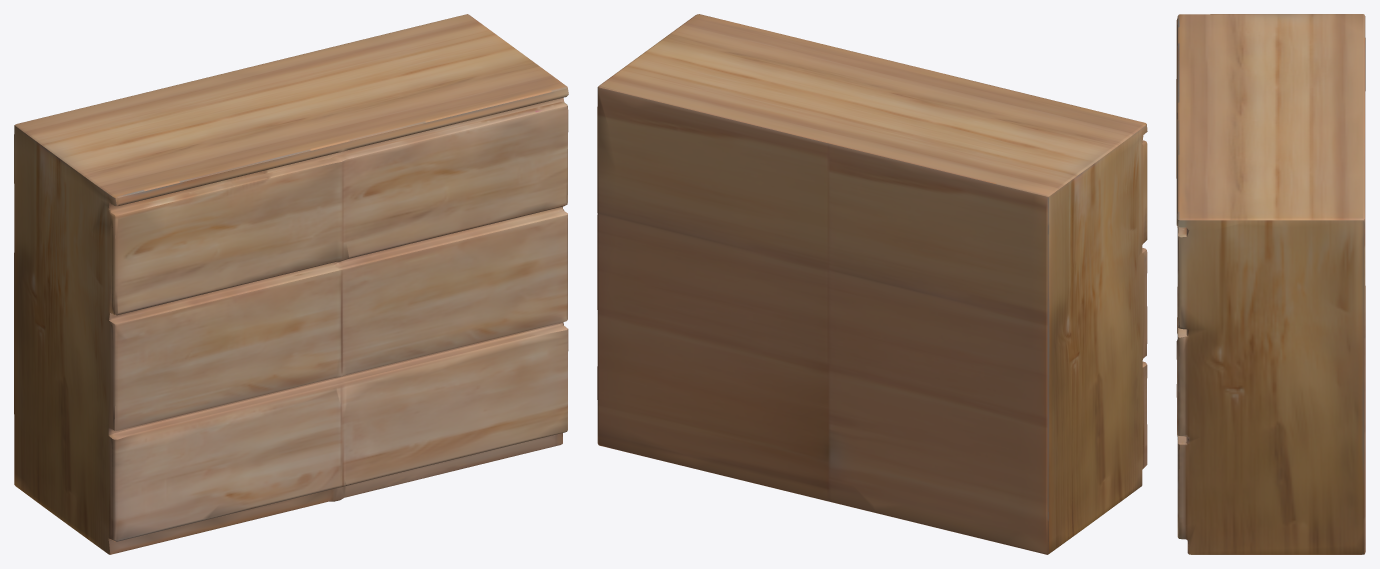
File: Commode3_3D_textured.glb
The picture shows the model from 3 angles, left to right: view 1: azimuth 30°, elevation 25°; view 2: azimuth 150°, elevation 25°; view 3: azimuth 270°, elevation 25°; orthographic projection. The views are drawn at different scales.
Visible parts, largest first — view 1: temp_mesh.ply; view 2: temp_mesh.ply; view 3: temp_mesh.ply.
Boxes of the visible parts, x1,y1,x2,y2 form: temp_mesh.ply: [14, 14, 568, 554]; temp_mesh.ply: [597, 14, 1147, 554]; temp_mesh.ply: [1176, 14, 1365, 554].
Size of the model in its own units: 1.97 by 1.5 by 0.7656.
Materials: 1 (1 with a texture image).
